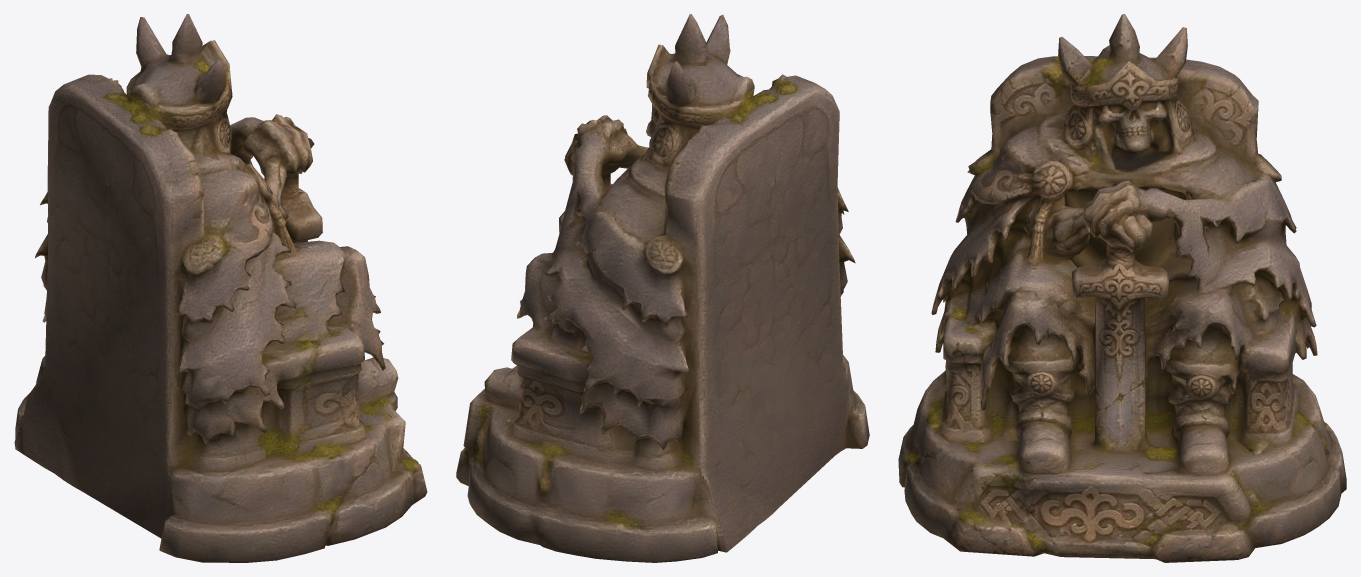
The model's file is n_iskeletkral.glb.
3 renders of one model, left to right at view 1: azimuth 30°, elevation 25°; view 2: azimuth 150°, elevation 25°; view 3: azimuth 270°, elevation 25°, orthographic.
Visible parts, largest first — view 1: tripo_node_1c7df994-c534-4503-9433-b34a696b6ed3; view 2: tripo_node_1c7df994-c534-4503-9433-b34a696b6ed3; view 3: tripo_node_1c7df994-c534-4503-9433-b34a696b6ed3.
Part boxes in pixels (x1,y1,x2,y2): tripo_node_1c7df994-c534-4503-9433-b34a696b6ed3: (14,14,427,562); tripo_node_1c7df994-c534-4503-9433-b34a696b6ed3: (456,14,869,562); tripo_node_1c7df994-c534-4503-9433-b34a696b6ed3: (898,14,1346,562).
Bounding box in the file's own units: 0.6465 × 0.998 × 0.8769.
Materials: 1 (1 with a texture image).
